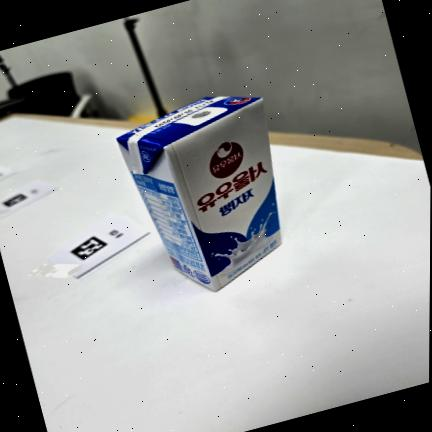milk_blue: (115, 94, 283, 289)
